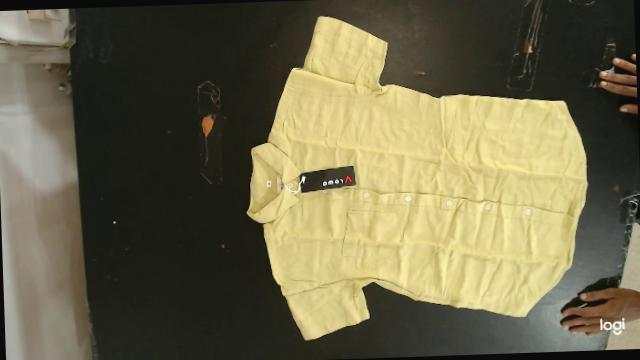new-garment: (247, 16, 587, 339)
